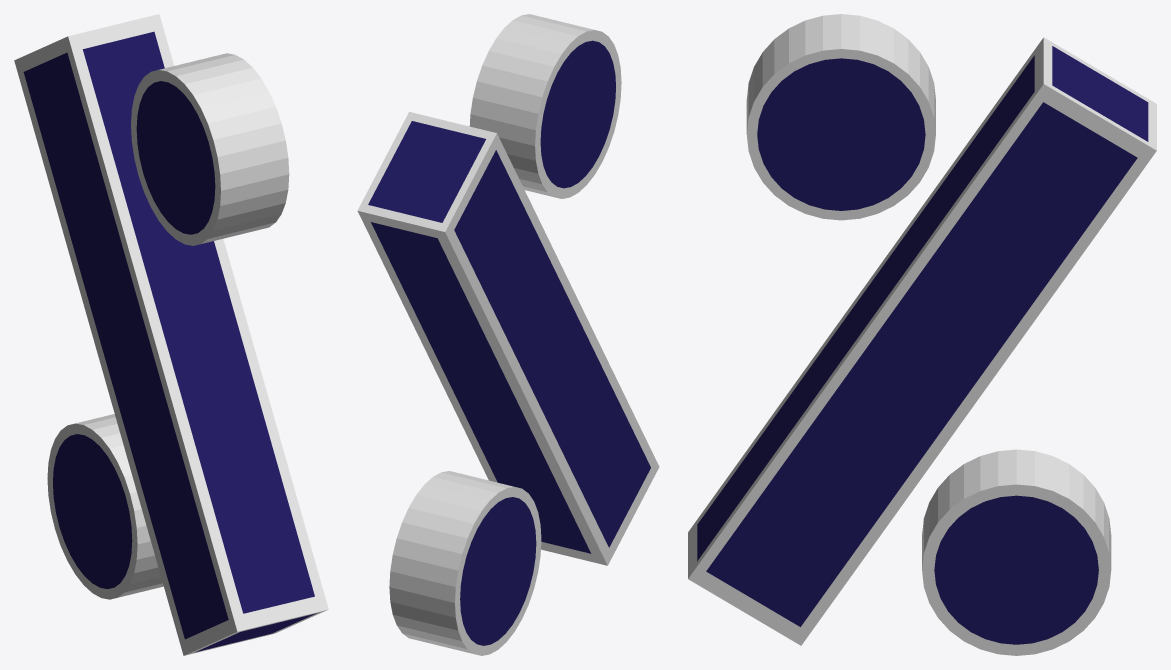
File: Procent.fbx
3 views of the same model, side by side, from view 1: azimuth 30°, elevation 25°; view 2: azimuth 150°, elevation 25°; view 3: azimuth 270°, elevation 25° (orthographic). The views are drawn at different scales.
Visible parts, largest first — view 1: Cube, Cylinder, Cylinder.001; view 2: Cube, Cylinder.001, Cylinder; view 3: Cube, Cylinder.001, Cylinder.
Boxes of the visible parts, x1,y1,x2,y2 form: Cube: (14, 14, 328, 655); Cylinder: (131, 53, 289, 245); Cylinder.001: (47, 414, 163, 599); Cube: (357, 112, 659, 565); Cylinder.001: (389, 471, 541, 655); Cylinder: (469, 14, 621, 198); Cube: (688, 37, 1156, 645); Cylinder.001: (922, 449, 1111, 655); Cylinder: (746, 14, 935, 220).
Size of the model in its own units: 80.3 by 486 by 340.
